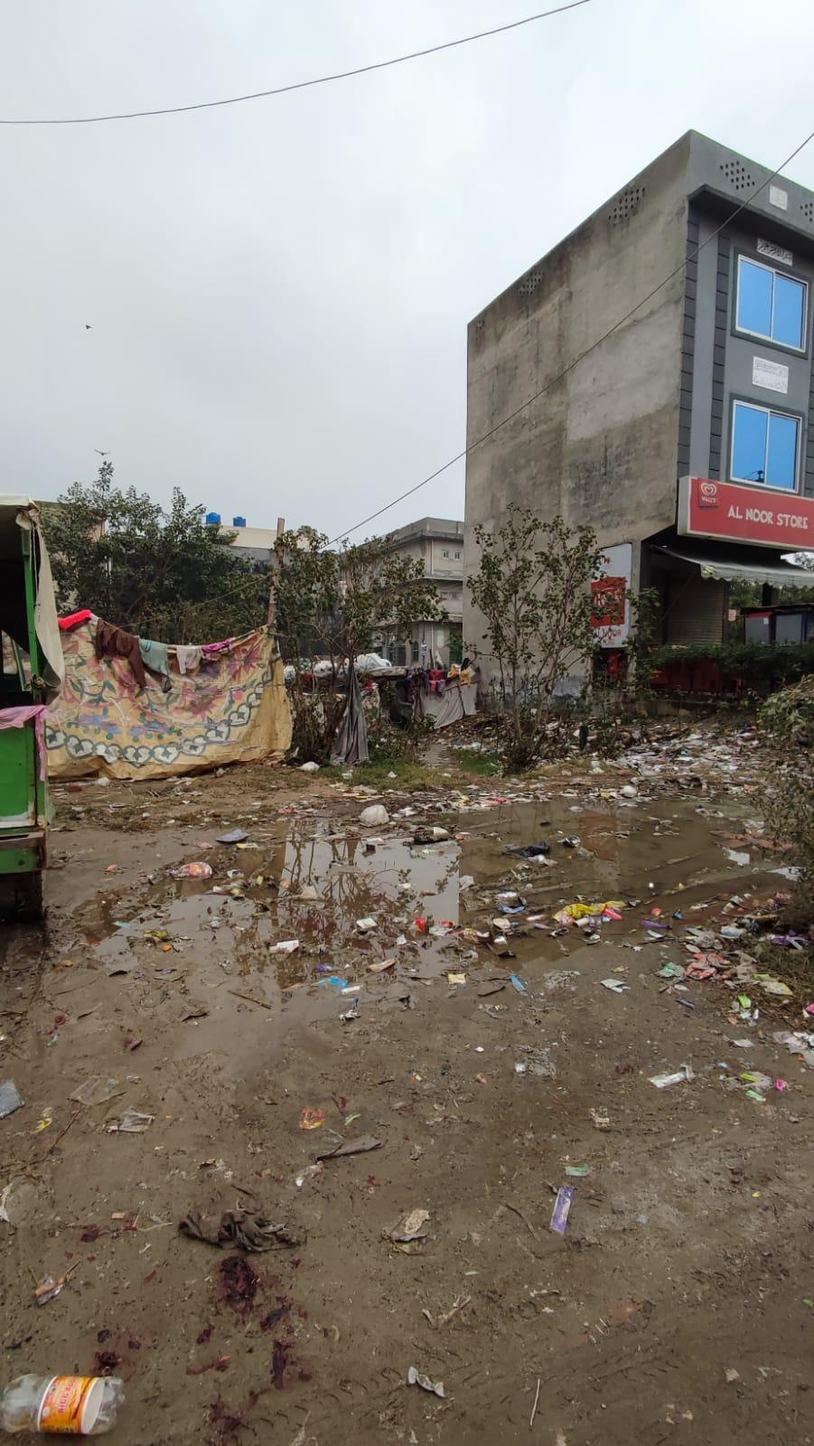garbage: (284, 745, 814, 1078)
